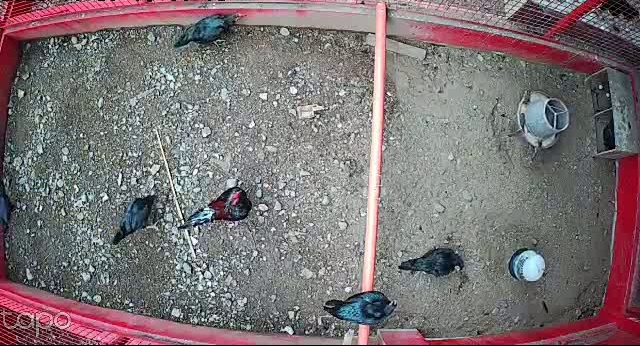Chicken: (173, 10, 249, 51), (322, 288, 399, 326), (111, 192, 163, 247), (396, 245, 466, 280)
Drinker: (507, 246, 547, 283)
Feeder: (516, 87, 570, 149)
Rooster: (178, 183, 255, 230)
